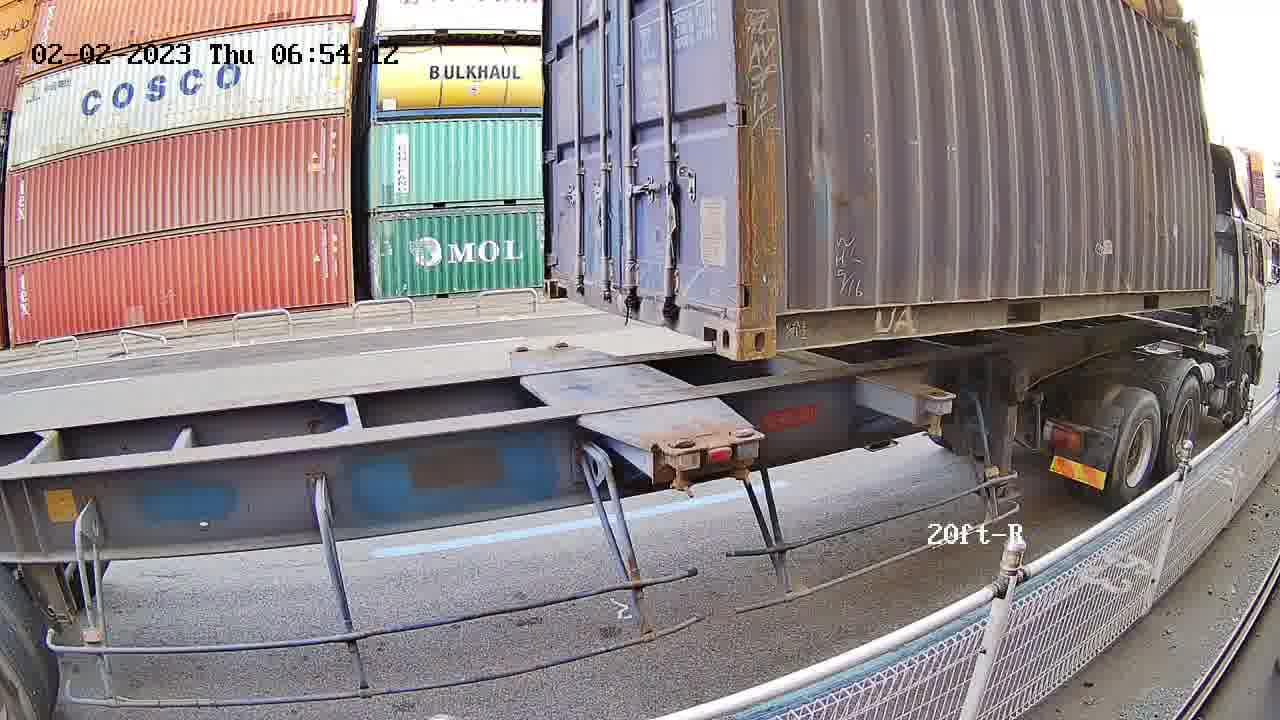Chassis: (553, 346, 766, 445), (507, 349, 702, 455)
Cone: (662, 435, 699, 499), (727, 428, 762, 485)
Hole_L: (739, 281, 809, 362), (543, 260, 571, 301)
Hole_R: (682, 277, 740, 362)
Tire: (1110, 397, 1162, 508), (1168, 379, 1202, 469)
